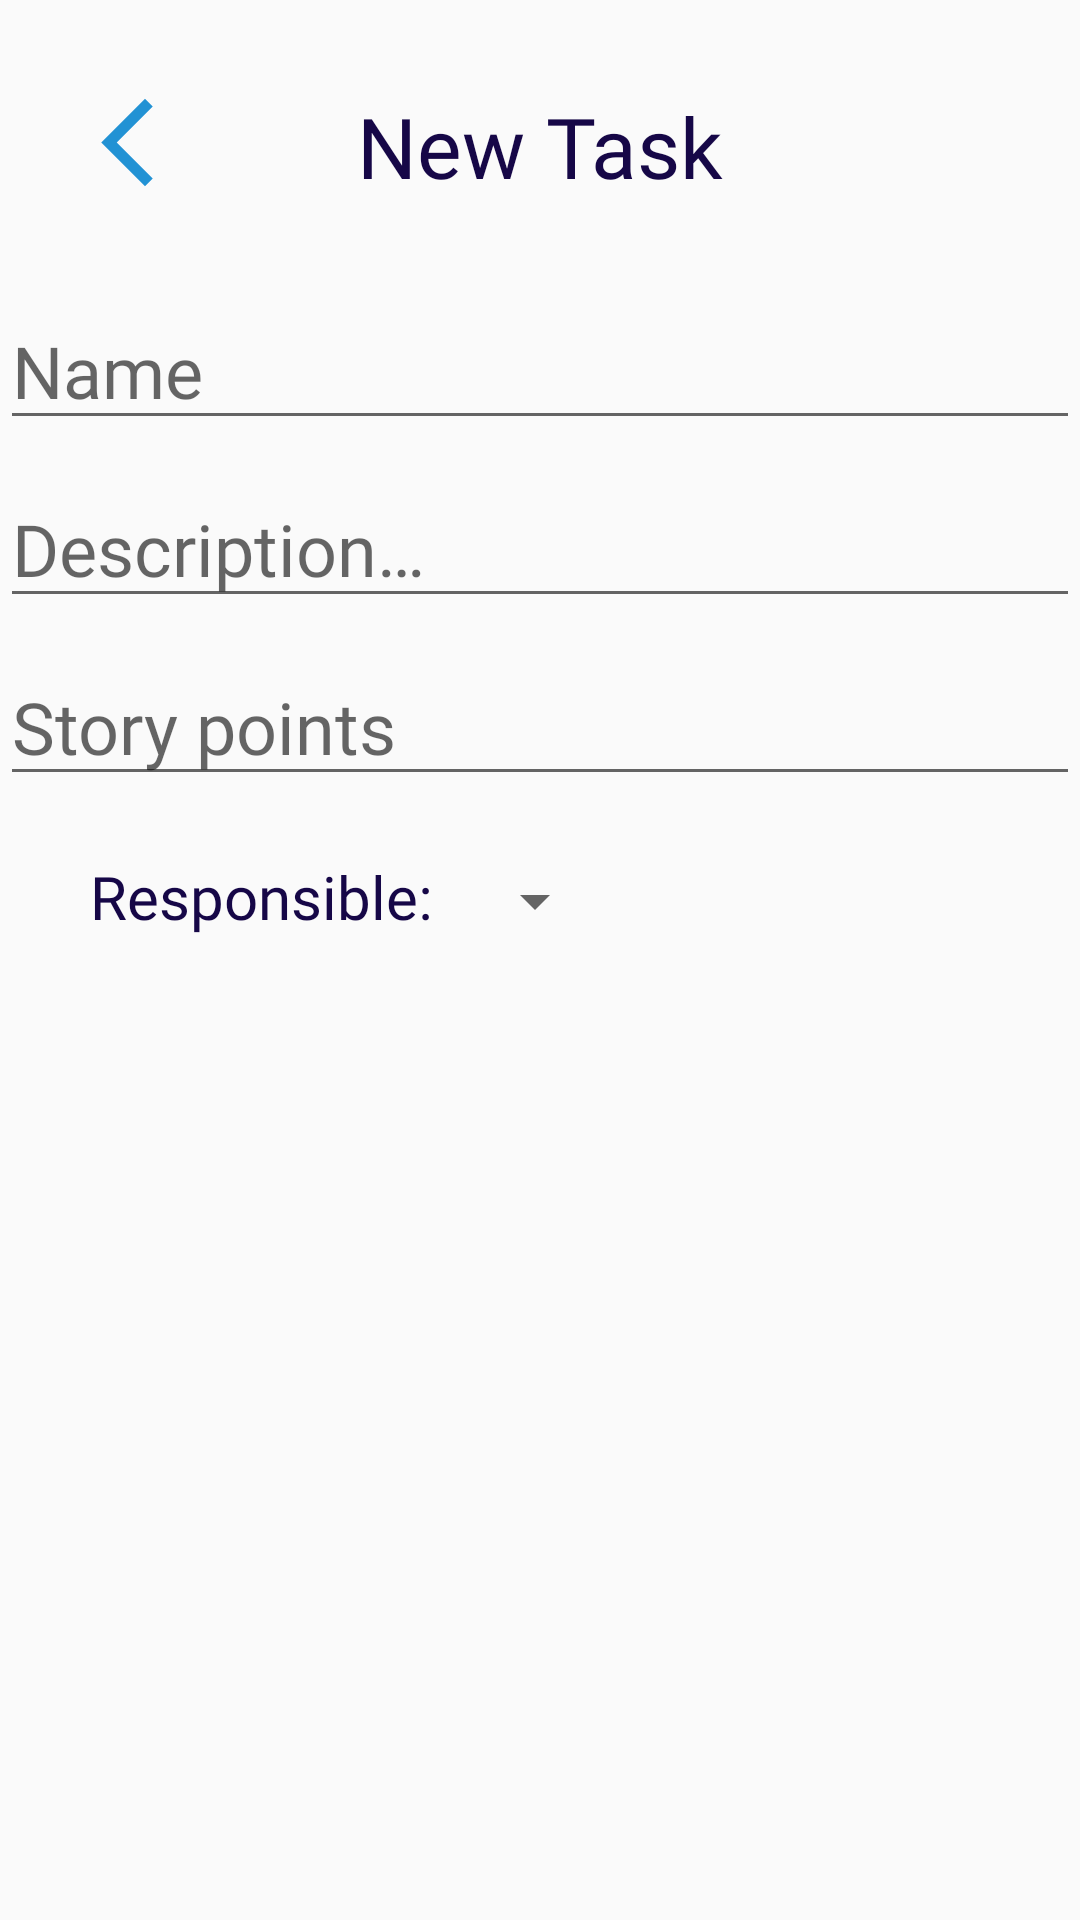

Icons on this 1080*1920 Android screen, each with its box as (x1, y1, x2, y2):
back: (101, 99, 153, 186)
